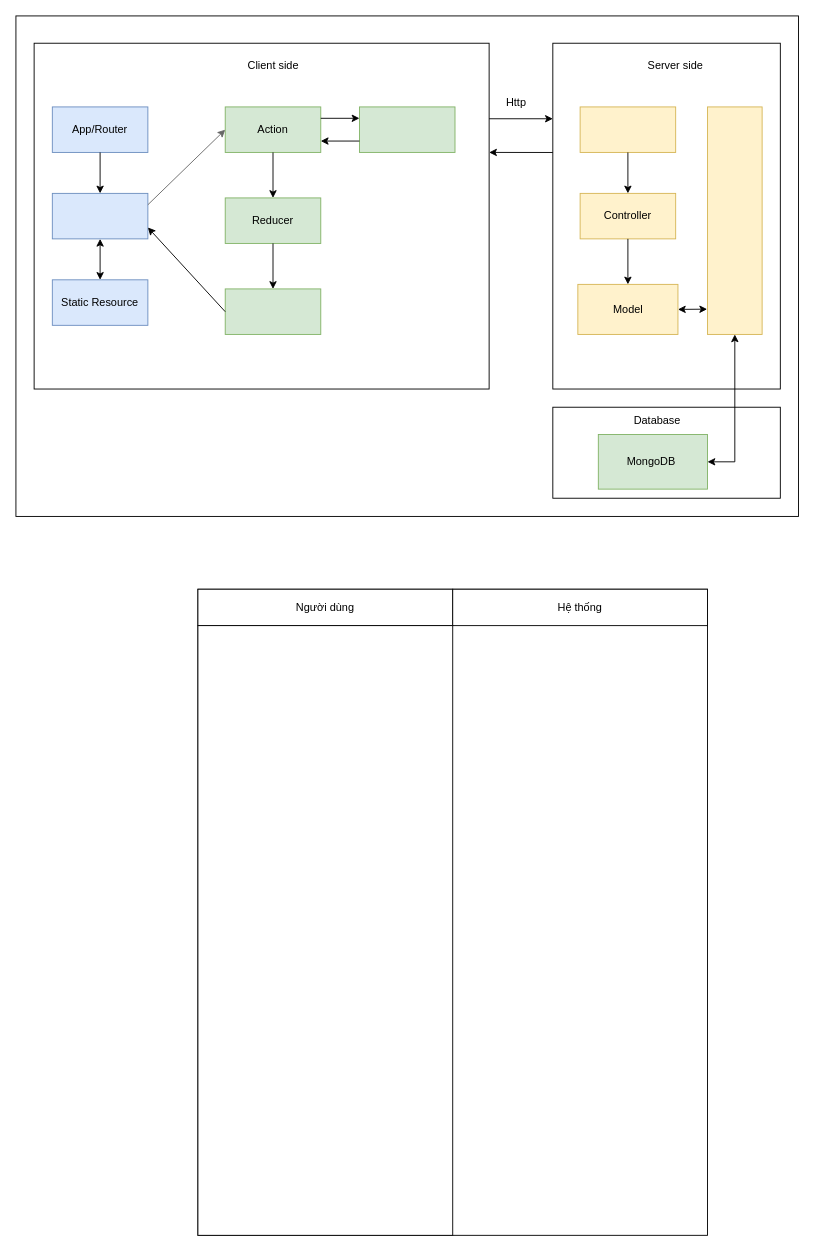
Some shapes in this 814 by 1251 pixel diagram are drawn without their labels. Each missing label, with the centre of its shape:
"Api" belongs at pixel 407 129.
"Component" belongs at pixel 99 215.
"Mongoose ODM" belongs at pixel 734 220.
"Route" belongs at pixel 627 129.
"Store" belongs at pixel 272 311.
